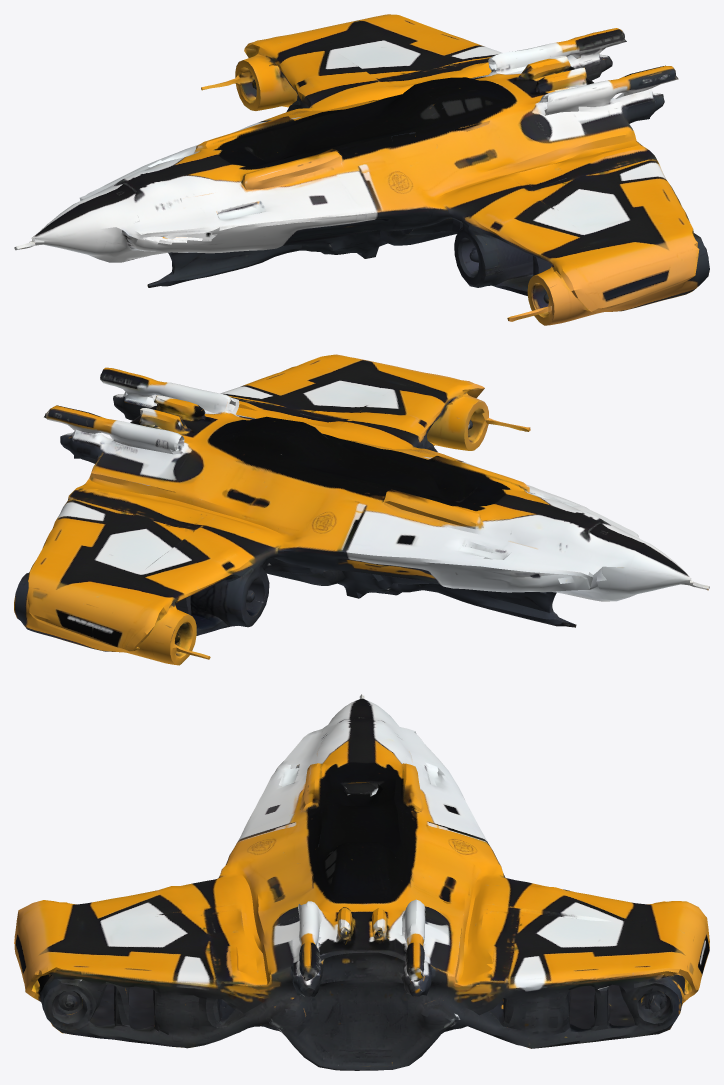
File: ship19.glb
3 renders of one model, top to bottom at view 1: azimuth 30°, elevation 25°; view 2: azimuth 150°, elevation 25°; view 3: azimuth 270°, elevation 25°, orthographic. The views are drawn at different scales.
Parts seen in each view (by area): view 1: Mesh0; view 2: Mesh0; view 3: Mesh0.
Part boxes in pixels (x1,y1,x2,y2): Mesh0: (14,14,709,325); Mesh0: (14,354,709,665); Mesh0: (14,694,709,1070).
Bounding box in the file's own units: 1.91 × 0.4109 × 1.75.
1 material, 1 textured.
